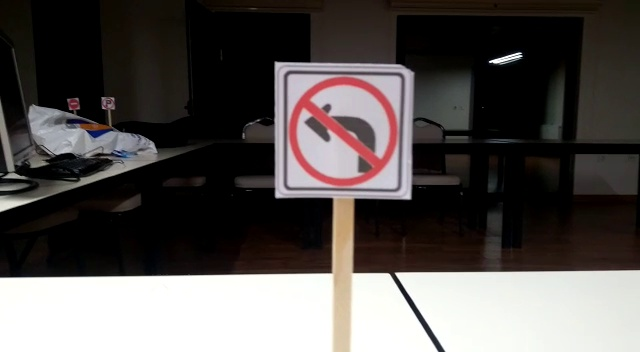sola_donulmez: (279, 72, 401, 200)
